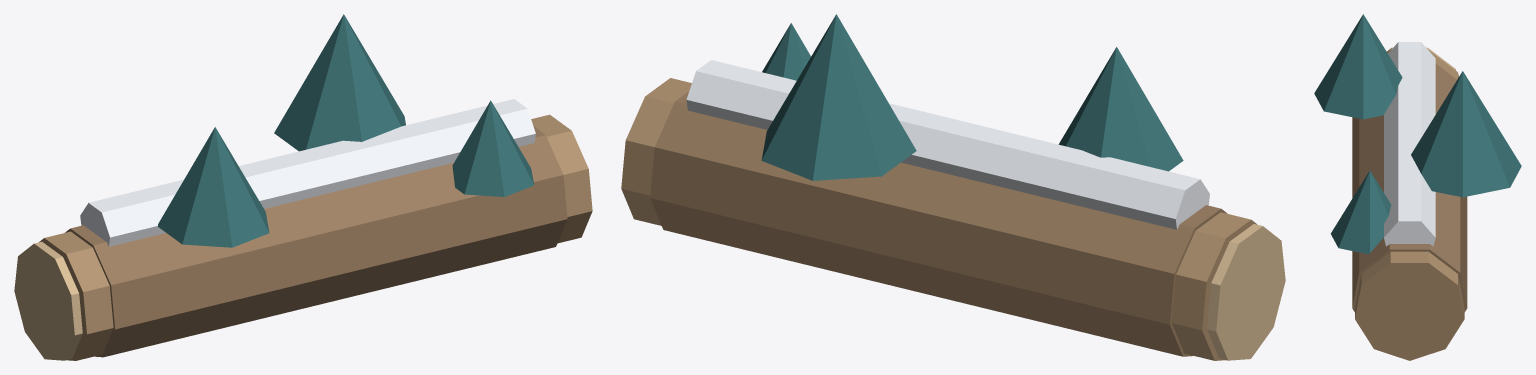
The model's file is fallen_tree.glb.
3 renders of one model, left to right at view 1: azimuth 30°, elevation 25°; view 2: azimuth 150°, elevation 25°; view 3: azimuth 270°, elevation 25°, orthographic. The views are drawn at different scales.
Visible parts, largest first — view 1: trunk_inner, snow_top, needles1, needles0, trunk, stump_end, needles2; view 2: trunk_inner, snow_top, needles1, trunk, stump_end, needles0, needles2; view 3: trunk, snow_top, needles1, trunk_inner, needles0, needles2.
Boxes of the visible parts, x1=… form: trunk_inner: x1=65, y1=126, x2=567, y2=357; snow_top: x1=80, y1=99, x2=535, y2=246; needles1: x1=274, y1=14, x2=405, y2=151; needles0: x1=158, y1=127, x2=269, y2=247; trunk: x1=39, y1=114, x2=592, y2=360; stump_end: x1=14, y1=241, x2=82, y2=360; needles2: x1=452, y1=100, x2=533, y2=196; trunk_inner: x1=650, y1=91, x2=1227, y2=356; snow_top: x1=686, y1=60, x2=1209, y2=229; needles1: x1=761, y1=14, x2=916, y2=180; trunk: x1=621, y1=78, x2=1257, y2=360; stump_end: x1=1207, y1=224, x2=1285, y2=360; needles0: x1=1058, y1=47, x2=1183, y2=171; needles2: x1=762, y1=23, x2=810, y2=80; trunk: x1=1355, y1=50, x2=1464, y2=360; snow_top: x1=1384, y1=42, x2=1435, y2=246; needles1: x1=1411, y1=71, x2=1521, y2=197; trunk_inner: x1=1352, y1=64, x2=1467, y2=311; needles0: x1=1314, y1=14, x2=1402, y2=119; needles2: x1=1330, y1=170, x2=1391, y2=254.
Size of the model in its own units: 3.88 by 1.78 by 1.57.
